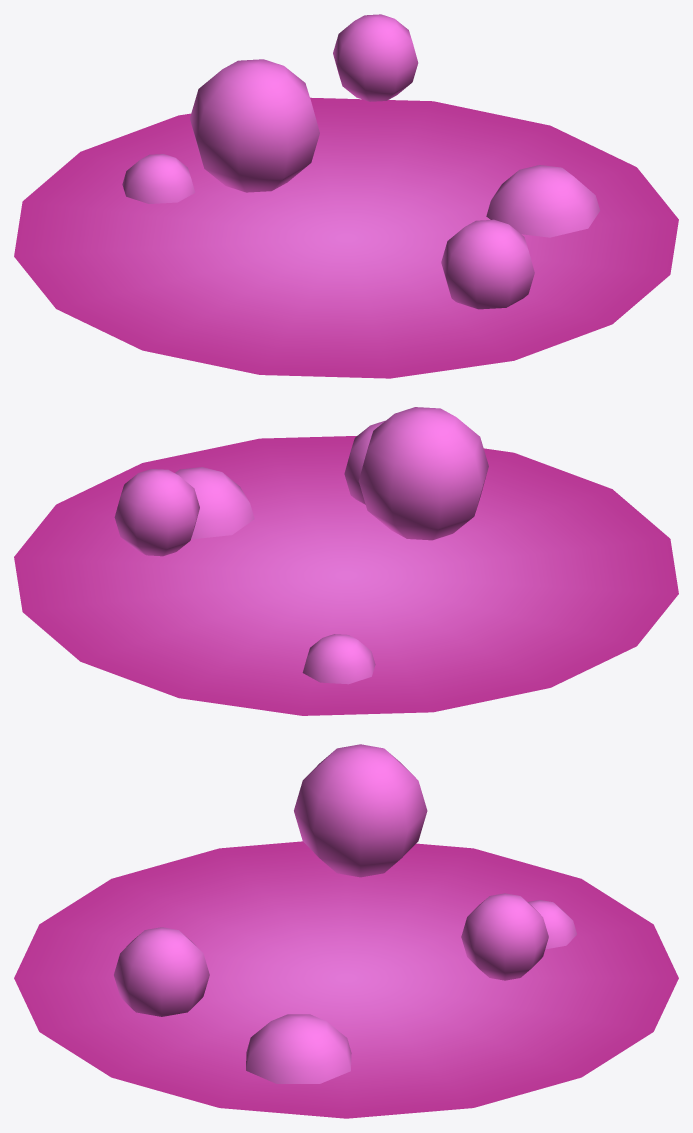
File: CauldronFillPlane4.fbx
3 views of the same model, one above another, from view 1: azimuth 30°, elevation 25°; view 2: azimuth 150°, elevation 25°; view 3: azimuth 270°, elevation 25° (orthographic).
Visible parts, largest first — view 1: CauldronFillPlane4; view 2: CauldronFillPlane4; view 3: CauldronFillPlane4.
Part boxes in pixels (bbox=[...]): CauldronFillPlane4: bbox=[14, 14, 678, 378]; CauldronFillPlane4: bbox=[14, 407, 678, 715]; CauldronFillPlane4: bbox=[14, 744, 678, 1118].
Size of the model in its own units: 47.4 by 15.64 by 47.4.
